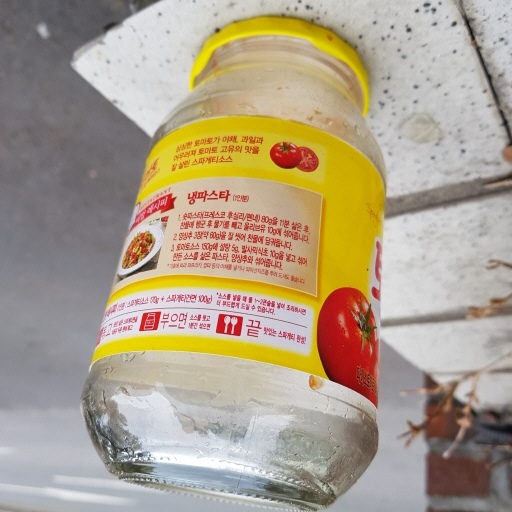Glass_5: (85, 16, 384, 510)
